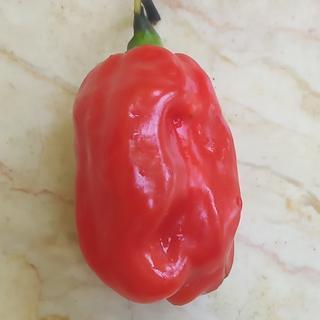Grade-A: (63, 38, 245, 305)
